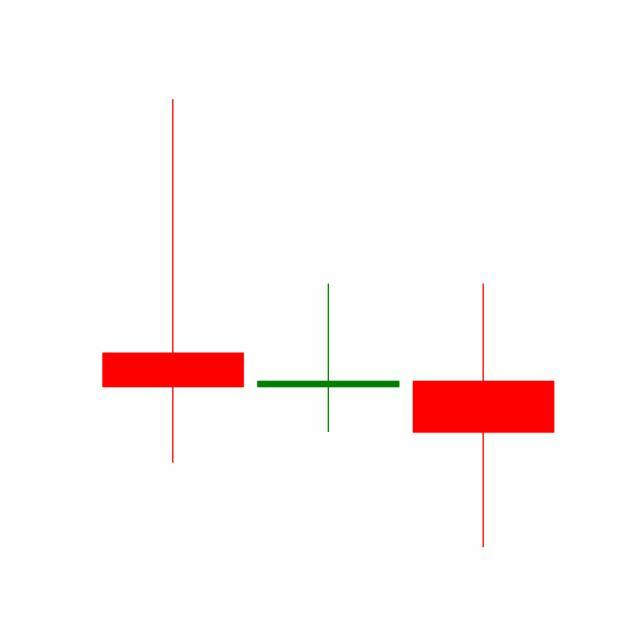Spinning Top: (250, 283, 407, 435)
